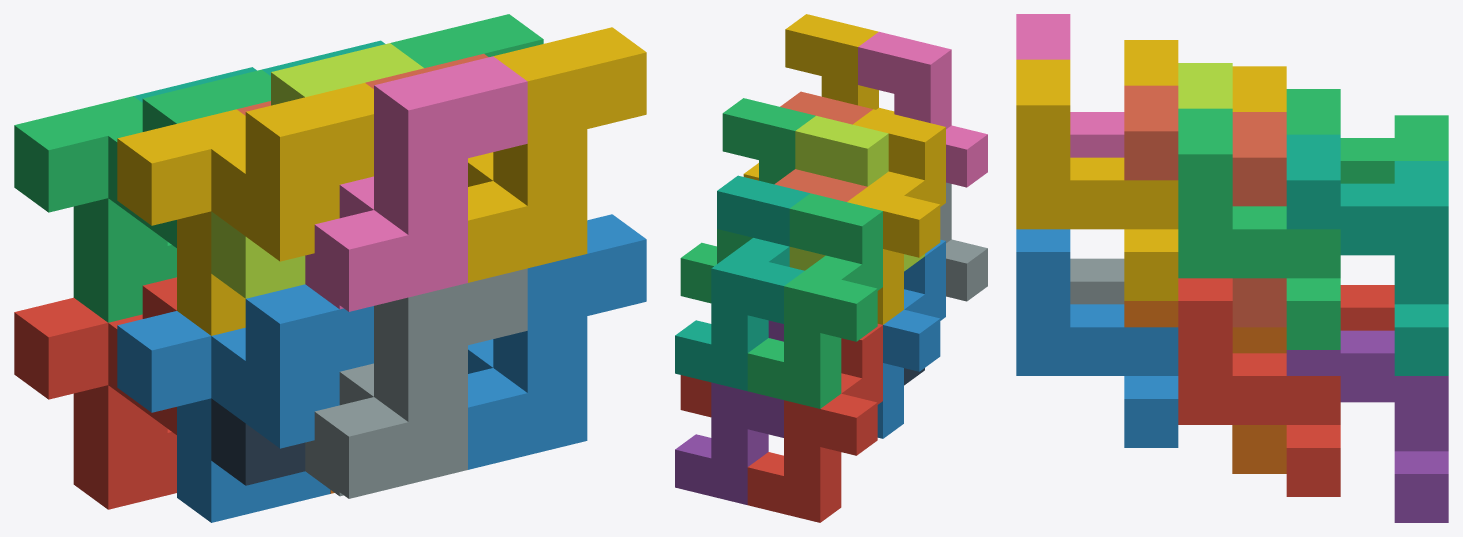
File: tiling.obj
3 renders of one model, left to right at view 1: azimuth 30°, elevation 25°; view 2: azimuth 150°, elevation 25°; view 3: azimuth 270°, elevation 25°, orthographic. The views are drawn at different scales.
Visible parts, largest first — view 1: copy_1_domain_4, copy_1_domain_2, copy_2_domain_4, copy_2_domain_2, copy_2_domain_8, copy_1_domain_3, copy_2_domain_6, copy_1_domain_1, copy_2_domain_3, copy_2_domain_1, copy_2_domain_7, copy_1_domain_7 (+1 smaller); view 2: copy_1_domain_3, copy_1_domain_7, copy_1_domain_1, copy_1_domain_4, copy_2_domain_4, copy_1_domain_5, copy_2_domain_7, copy_1_domain_2, copy_2_domain_3, copy_2_domain_8, copy_1_domain_8, copy_2_domain_2 (+1 smaller); view 3: copy_1_domain_7, copy_2_domain_7, copy_2_domain_8, copy_2_domain_5, copy_2_domain_6, copy_1_domain_5, copy_1_domain_8, copy_1_domain_3, copy_1_domain_6, copy_1_domain_4, copy_2_domain_4, copy_2_domain_2 (+2 smaller).
Part boxes in pixels (<box>): copy_1_domain_4: <box>117,83,373,335</box>; copy_1_domain_2: <box>117,284,373,522</box>; copy_2_domain_4: <box>305,56,527,311</box>; copy_2_domain_2: <box>305,268,527,498</box>; copy_2_domain_8: <box>468,27,646,282</box>; copy_1_domain_3: <box>14,69,270,322</box>; copy_2_domain_6: <box>468,214,646,469</box>; copy_1_domain_1: <box>14,277,176,509</box>; copy_2_domain_3: <box>211,43,423,298</box>; copy_2_domain_1: <box>211,398,305,485</box>; copy_2_domain_7: <box>390,14,543,67</box>; copy_1_domain_7: <box>133,40,385,102</box>; copy_1_domain_3: <box>747,193,882,408</box>; copy_1_domain_7: <box>675,175,809,391</box>; copy_1_domain_1: <box>747,324,882,522</box>; copy_1_domain_4: <box>847,109,945,324</box>; copy_2_domain_4: <box>858,31,987,187</box>; copy_1_domain_5: <box>675,320,783,504</box>; copy_2_domain_7: <box>680,98,815,303</box>; copy_1_domain_2: <box>877,239,945,438</box>; copy_2_domain_3: <box>789,115,924,271</box>; copy_2_domain_8: <box>743,14,894,180</box>; copy_1_domain_8: <box>774,91,872,201</box>; copy_2_domain_2: <box>940,182,987,301</box>; copy_1_domain_7: <box>1286,134,1448,375</box>; copy_2_domain_7: <box>1178,108,1340,349</box>; copy_2_domain_8: <box>1016,59,1178,300</box>; copy_2_domain_5: <box>1178,278,1340,496</box>; copy_2_domain_6: <box>1016,229,1178,447</box>; copy_1_domain_5: <box>1286,330,1448,522</box>; copy_1_domain_8: <box>1124,85,1286,327</box>; copy_1_domain_3: <box>1286,89,1448,183</box>; copy_1_domain_6: <box>1124,301,1286,473</box>; copy_1_domain_4: <box>1124,40,1286,111</box>; copy_2_domain_4: <box>1016,14,1124,157</box>; copy_2_domain_2: <box>1070,258,1124,304</box>.
Bounding box in the file's own units: 6 × 9 × 8.
